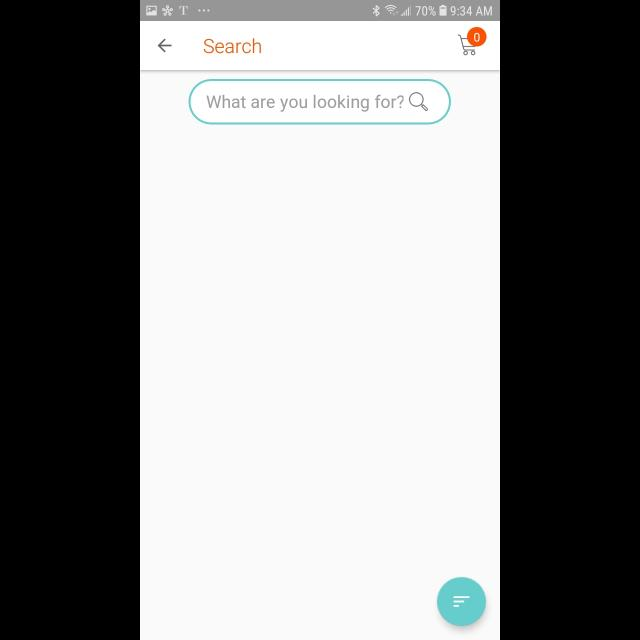icon: (436, 578, 486, 626), (458, 28, 487, 56), (408, 92, 428, 111), (158, 39, 172, 53)
input: (189, 79, 451, 125)
text: (206, 96, 404, 112), (204, 38, 262, 54)
uppertaskbar: (140, 1, 500, 22)
